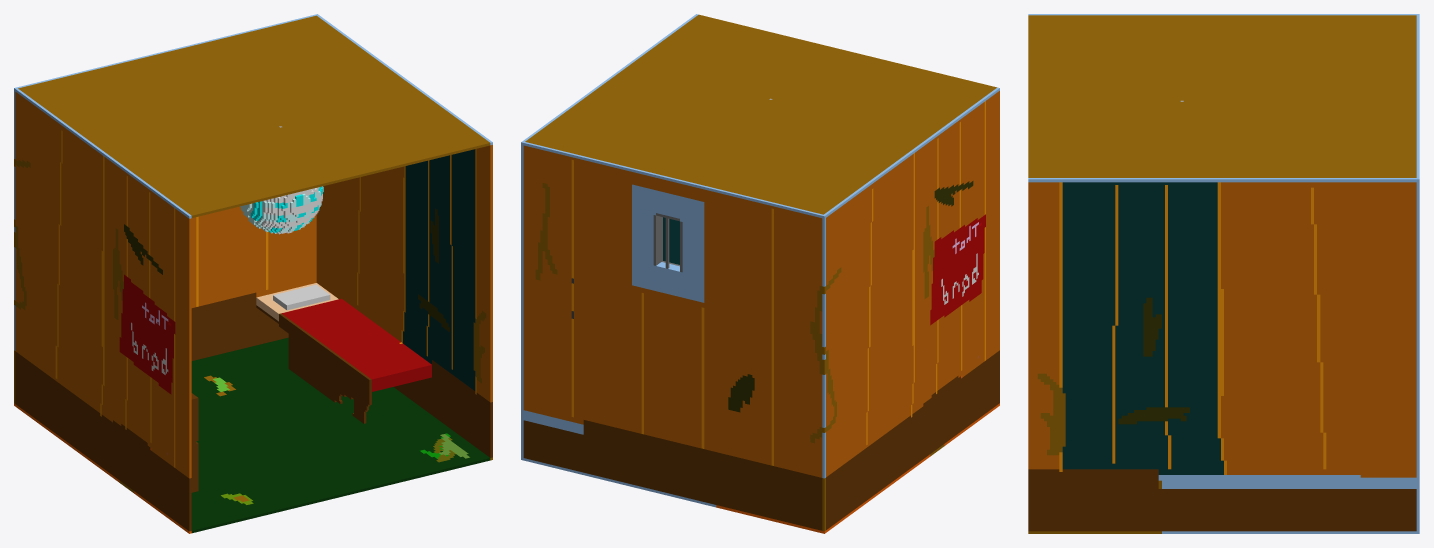
Rendered from JamCell.fbx.
3 views of the same model, side by side, from view 1: azimuth 30°, elevation 25°; view 2: azimuth 150°, elevation 25°; view 3: azimuth 270°, elevation 25° (orthographic). The views are drawn at different scales.
Visible parts, largest first — view 1: JamCellrough:Mesh; view 2: JamCellrough:Mesh; view 3: JamCellrough:Mesh.
Boxes of the visible parts, x1,y1,x2,y2 form: JamCellrough:Mesh: (14,14,492,533); JamCellrough:Mesh: (521,14,999,533); JamCellrough:Mesh: (1028,14,1419,533).
Size of the model in its own units: 126 by 126 by 126.
1 material, 1 textured.
